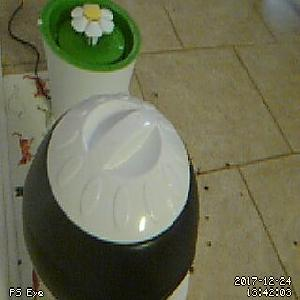fountain: (37, 1, 142, 73)
